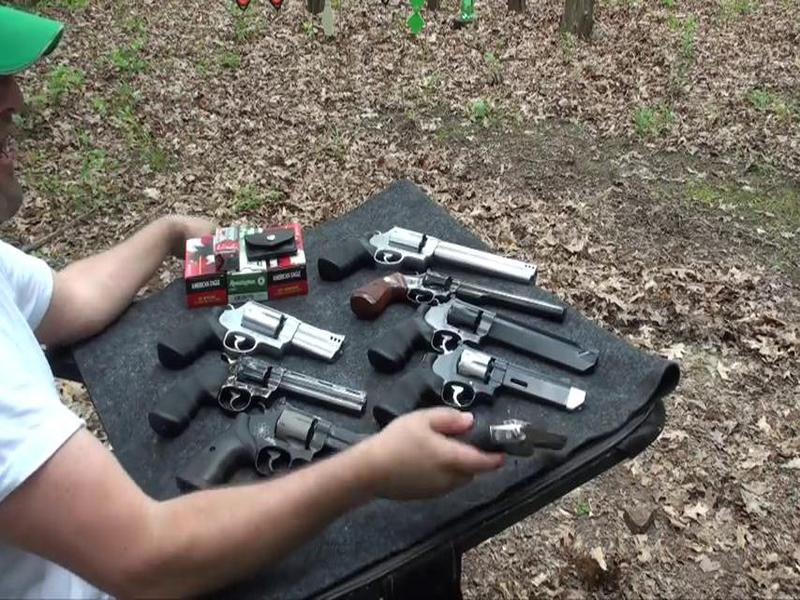Revolver: (157, 288, 340, 376)
